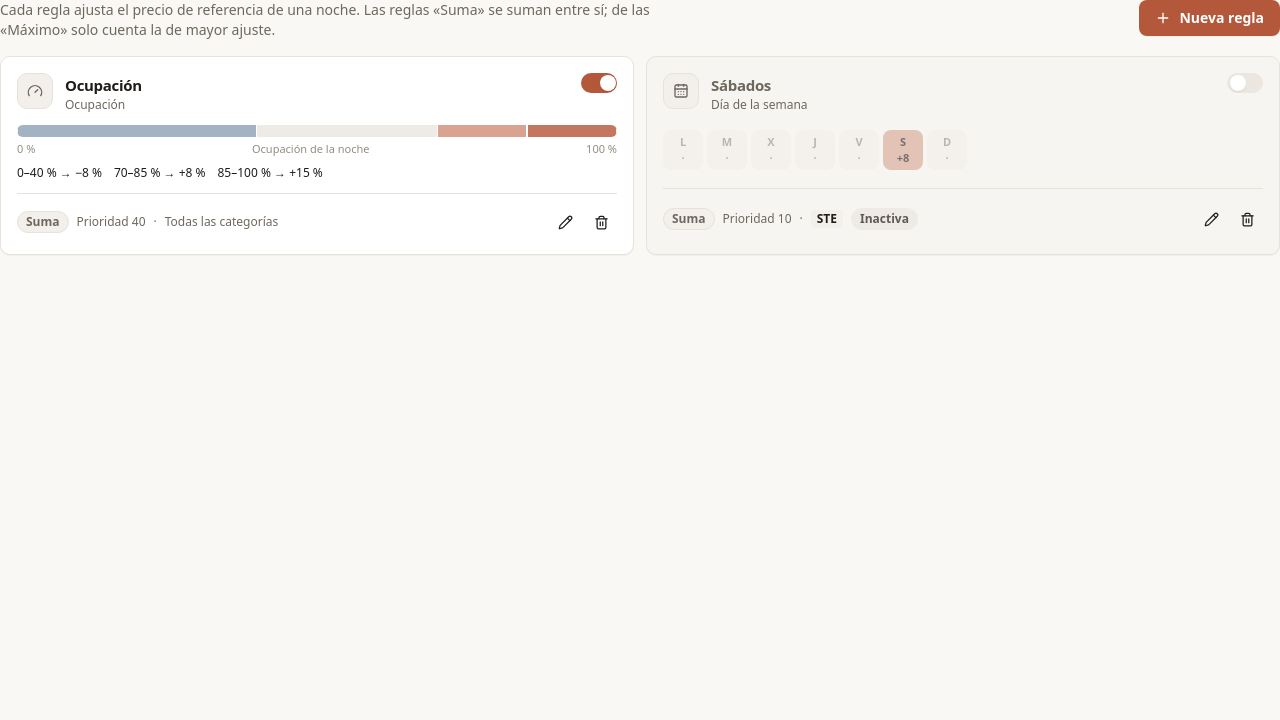
Scenario: rules › turns a rule on from its card and deletes another after confirming
Step 1. Click the switch named "Regla «Sábados» activa" → (1245, 83), box top-left (1227, 73), bottom-right (1263, 93)
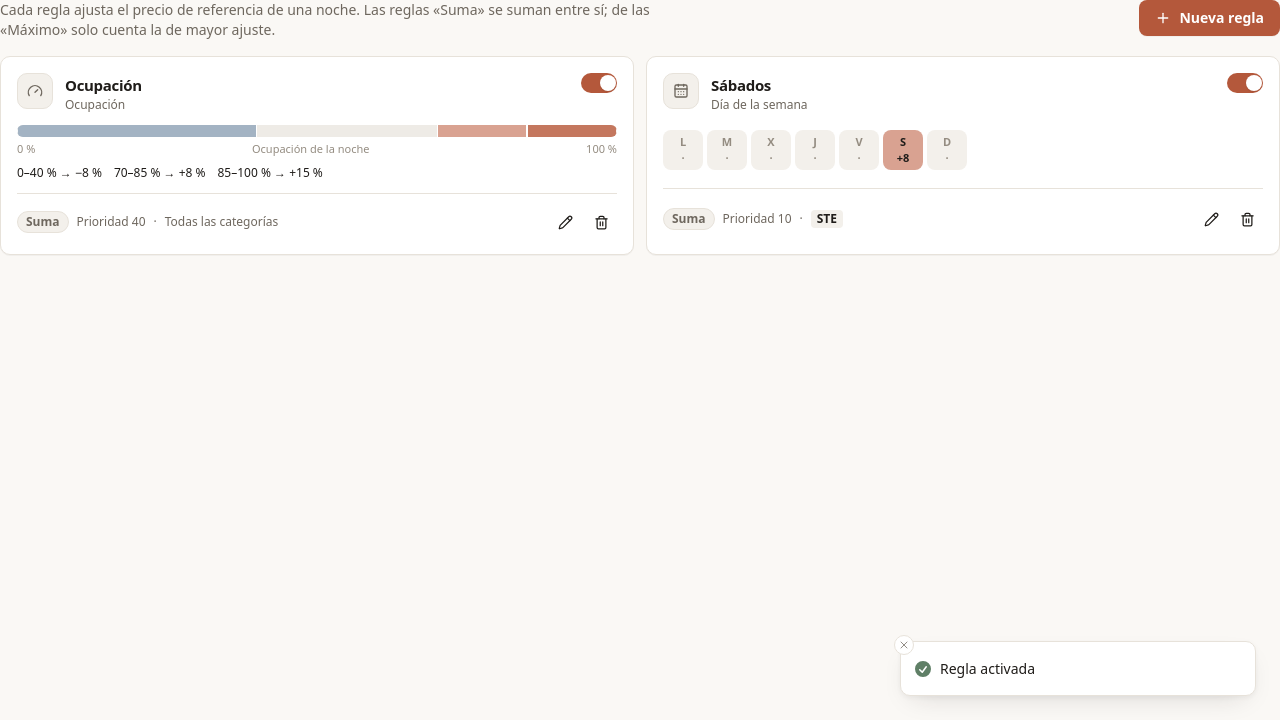
Step 2. Click the button named "Eliminar «Ocupación»" → (601, 222), box top-left (585, 206), bottom-right (617, 238)
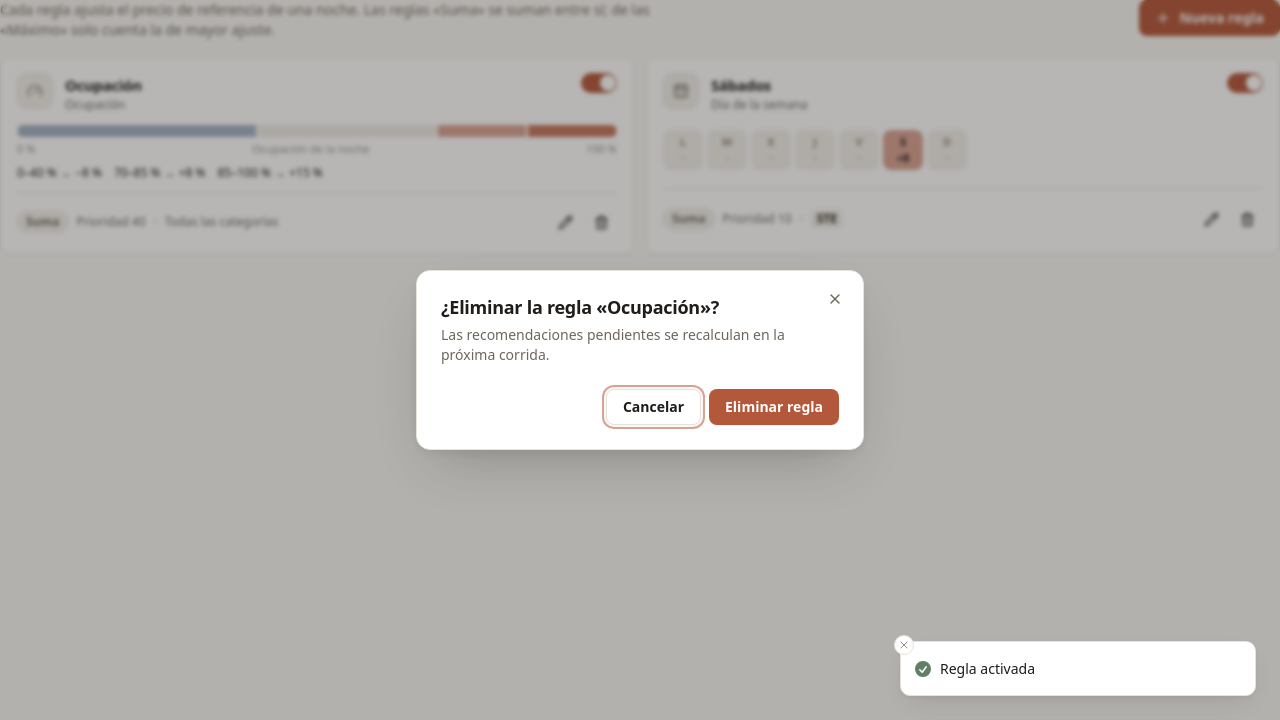
Step 3. Click the button "Eliminar regla" → (774, 407), box top-left (709, 389), bottom-right (839, 425)
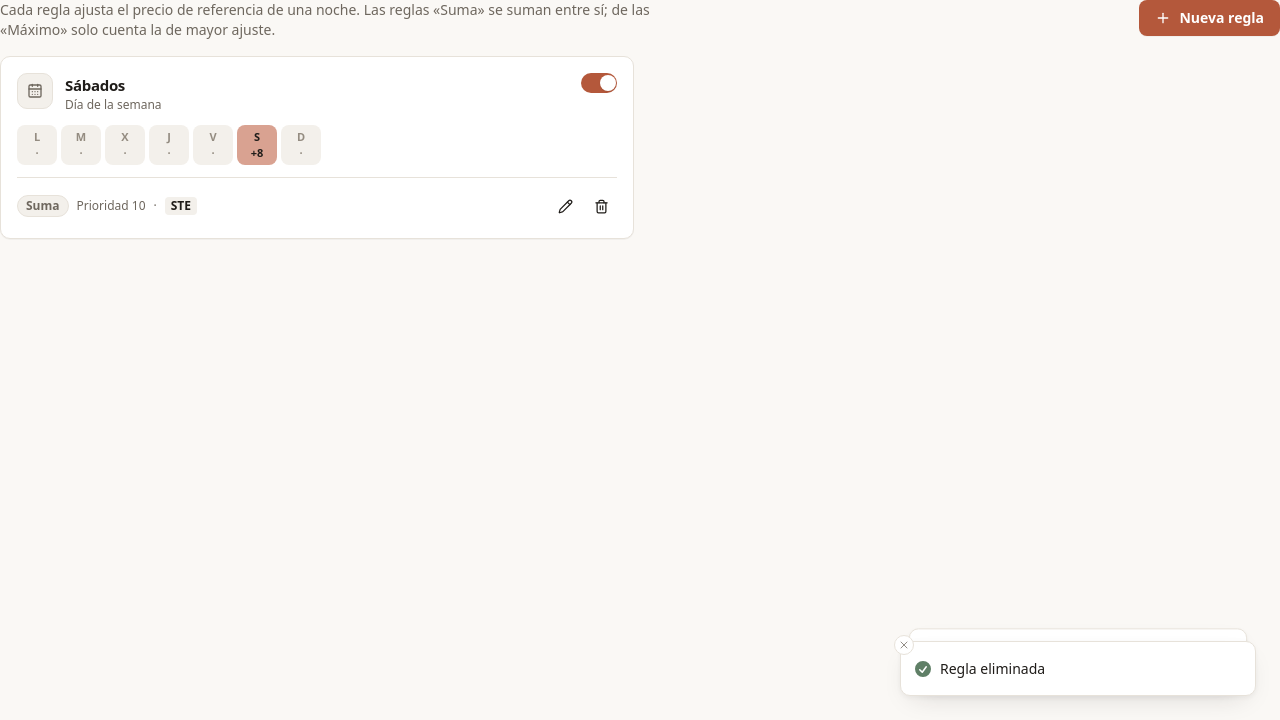
Expected: the heading "Ocupación" is gone
